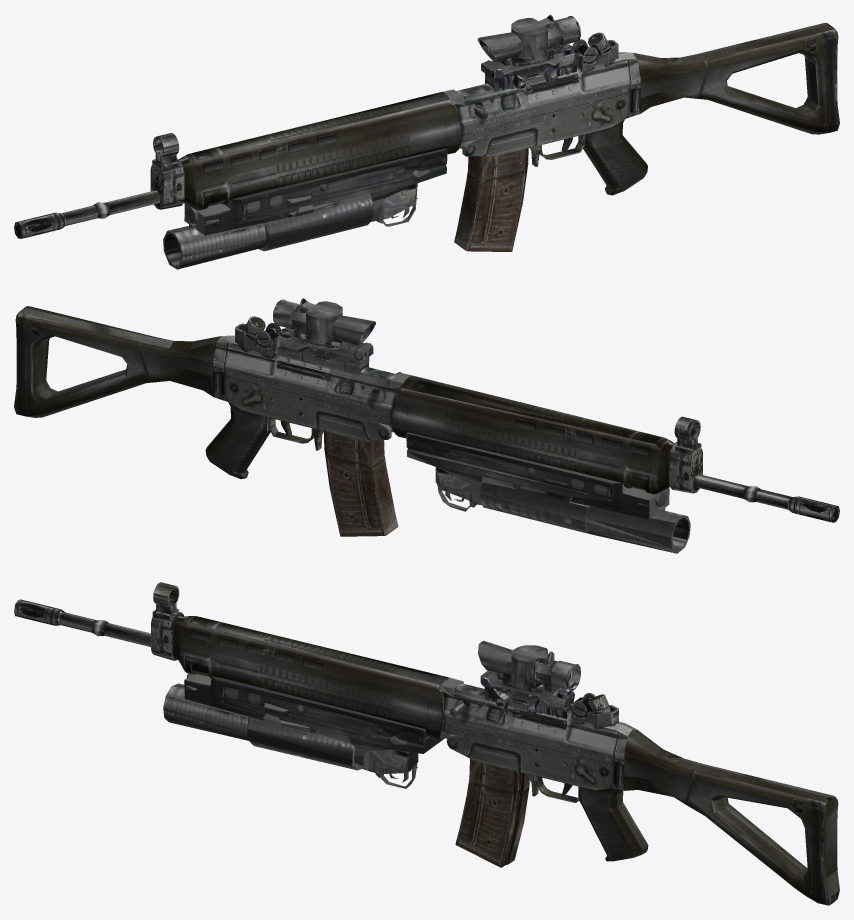
File: w_sig550_susat_gl.obj
3 renders of one model, top to bottom at view 1: azimuth 30°, elevation 25°; view 2: azimuth 150°, elevation 25°; view 3: azimuth 330°, elevation 25°, orthographic.
Parts seen in each view (by area): view 1: Sig550, W_Gl5040, W_Susat; view 2: Sig550, W_Gl5040, W_Susat; view 3: Sig550, W_Gl5040, W_Susat.
Boxes of the visible parts, x1,y1,x2,y2 form: Sig550: (14, 22, 839, 251); W_Gl5040: (163, 148, 447, 269); W_Susat: (477, 14, 580, 93); Sig550: (14, 306, 839, 536); W_Gl5040: (406, 432, 690, 553); W_Susat: (273, 298, 375, 375); Sig550: (14, 582, 839, 905); W_Gl5040: (163, 673, 444, 788); W_Susat: (478, 640, 580, 719).
Size of the model in its own units: 13.63 by 3.55 by 0.8927.
